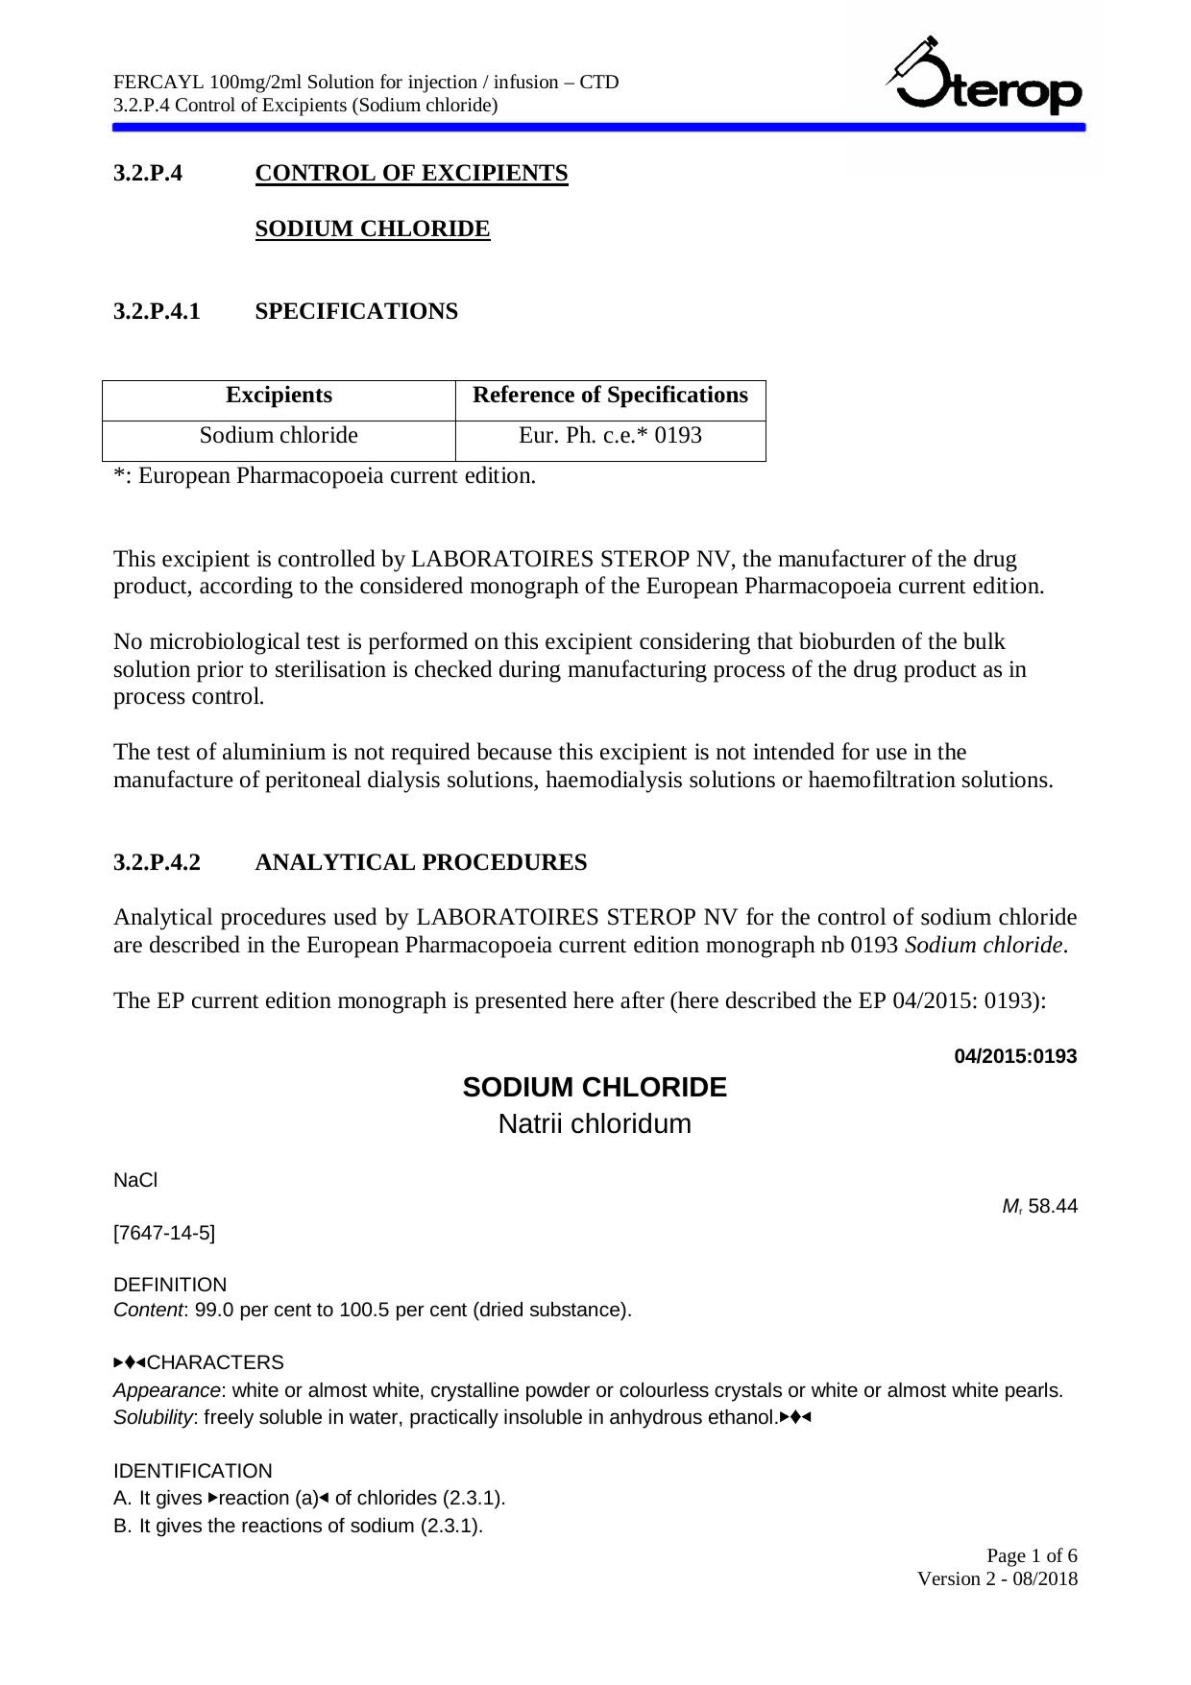full_lined: (101, 378, 767, 463)
